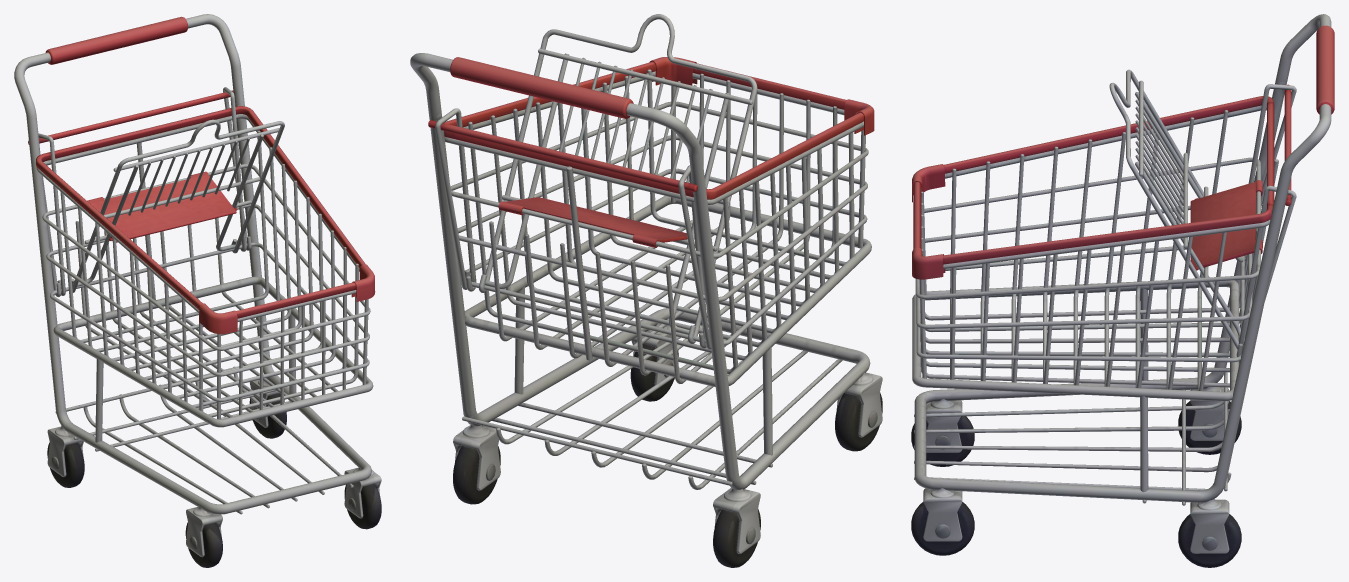
Rendered from shopping_cart.glb.
The picture shows the model from 3 angles, left to right: view 1: azimuth 30°, elevation 25°; view 2: azimuth 150°, elevation 25°; view 3: azimuth 270°, elevation 25°; orthographic projection. The views are drawn at different scales.
Parts seen in each view (by area): view 1: body, handle; view 2: body, handle; view 3: body, handle.
Part boxes in pixels (x1,y1,x2,y2): body: (14,14,381,567); handle: (45,16,187,64); body: (410,14,882,567); handle: (450,57,633,118); body: (911,14,1331,567); handle: (1316,25,1334,114).
Size of the model in its own units: 0.5927 by 0.98 by 0.8411.
1 material, 1 textured.
